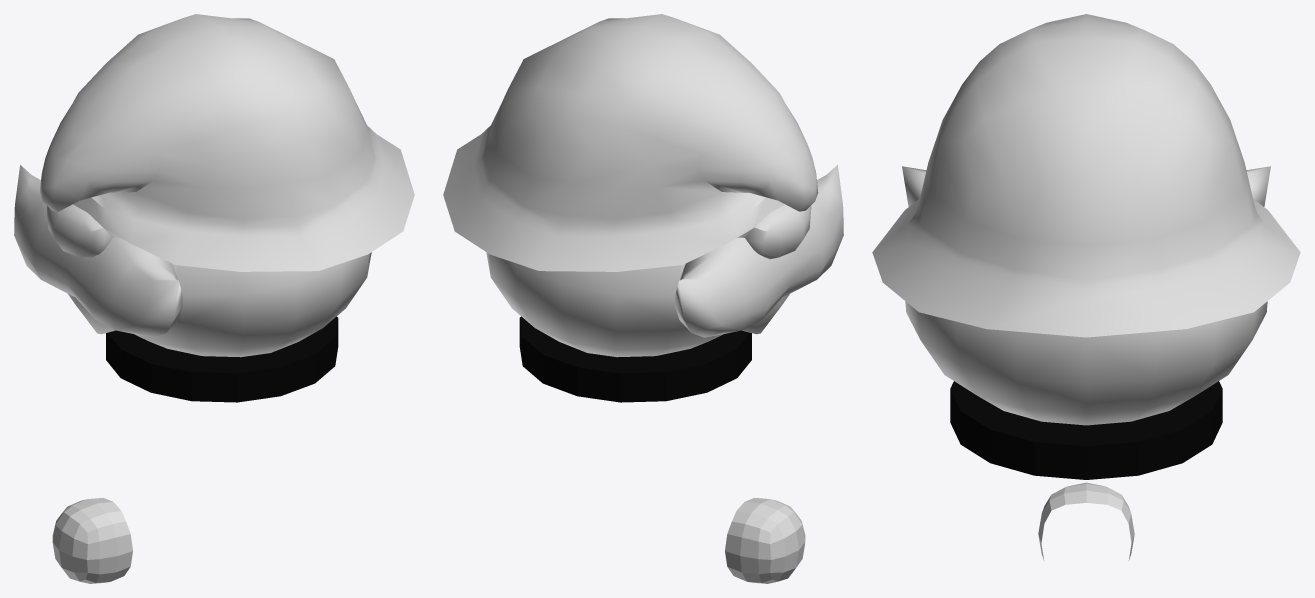
File: Animação ataque Vermelho.glb
3 renders of one model, left to right at view 1: azimuth 30°, elevation 25°; view 2: azimuth 150°, elevation 25°; view 3: azimuth 270°, elevation 25°, orthographic. The views are drawn at different scales.
Visible parts, largest first — view 1: bigode vermelho, base base.001, modelo nariz; view 2: bigode vermelho, base base.001, modelo nariz; view 3: bigode vermelho, base base.001, modelo nariz.
Boxes of the visible parts, bbox=[...] form: bigode vermelho: bbox=[14, 14, 414, 357]; base base.001: bbox=[106, 316, 338, 402]; modelo nariz: bbox=[52, 498, 132, 583]; bigode vermelho: bbox=[443, 14, 843, 357]; base base.001: bbox=[519, 316, 751, 402]; modelo nariz: bbox=[725, 498, 805, 583]; bigode vermelho: bbox=[872, 14, 1300, 425]; base base.001: bbox=[950, 381, 1222, 479]; modelo nariz: bbox=[1038, 482, 1134, 560].
Bounding box in the file's own units: 2.67 × 3.73 × 2.38.
2 materials, 2 textured.
